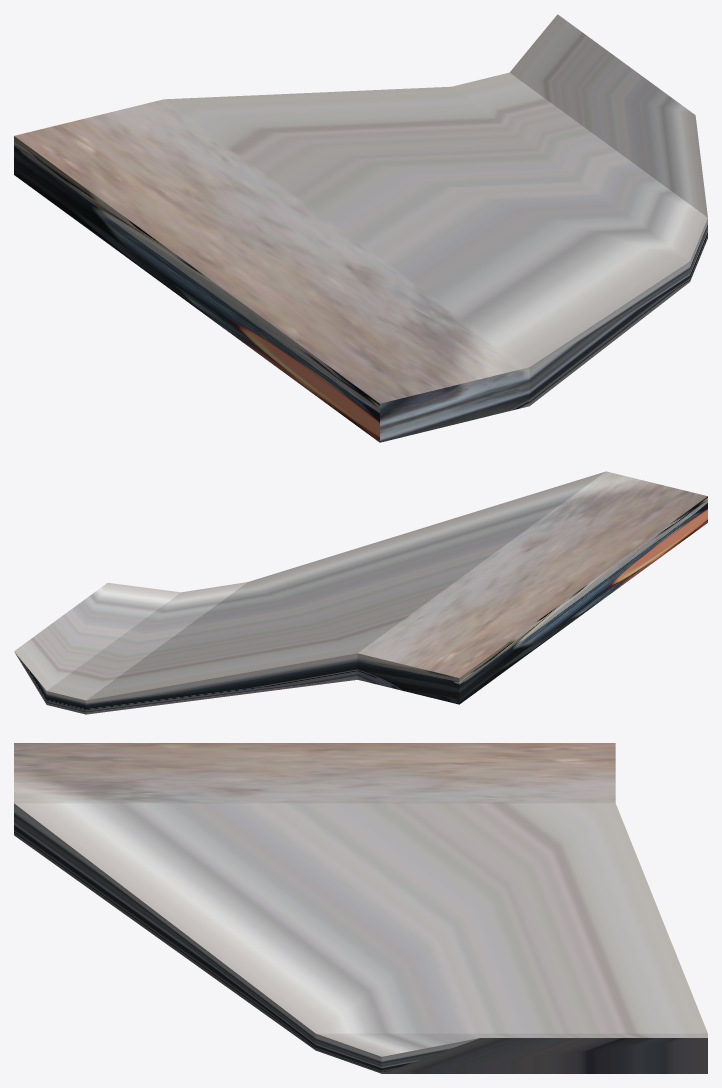
3 views of the same model, one above another, from view 1: azimuth 30°, elevation 25°; view 2: azimuth 150°, elevation 25°; view 3: azimuth 270°, elevation 25° (orthographic). The views are drawn at different scales.
Visible parts, largest first — view 1: Wing-2.001_Cube.019; view 2: Wing-2.001_Cube.019; view 3: Wing-2.001_Cube.019.
Part boxes in pixels (<box>): Wing-2.001_Cube.019: <box>14,14,707,442</box>; Wing-2.001_Cube.019: <box>14,471,707,714</box>; Wing-2.001_Cube.019: <box>14,743,707,1073</box>.
Bounding box in the file's own units: 6.06 × 1.28 × 7.38.
